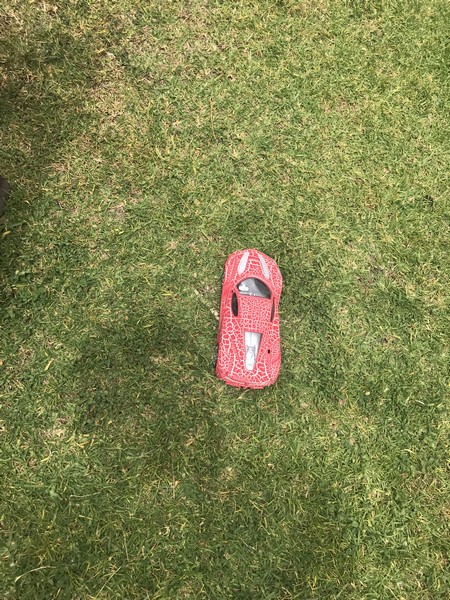RC: (213, 246, 283, 394)
